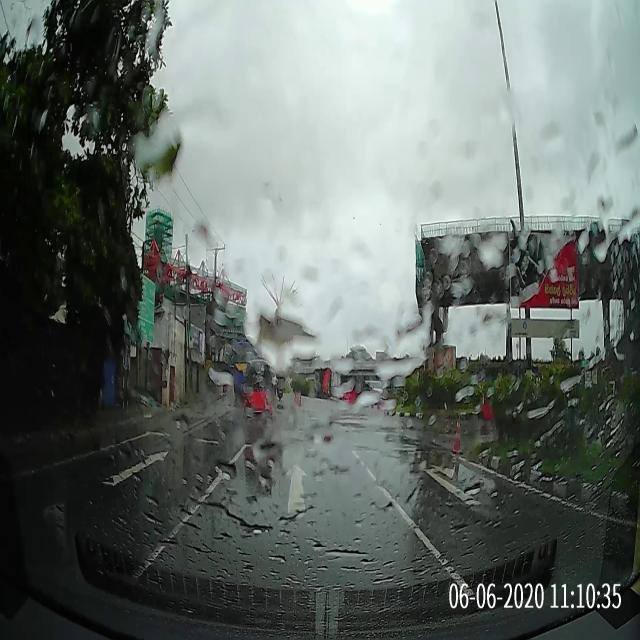diamond: (167, 448, 435, 538)
